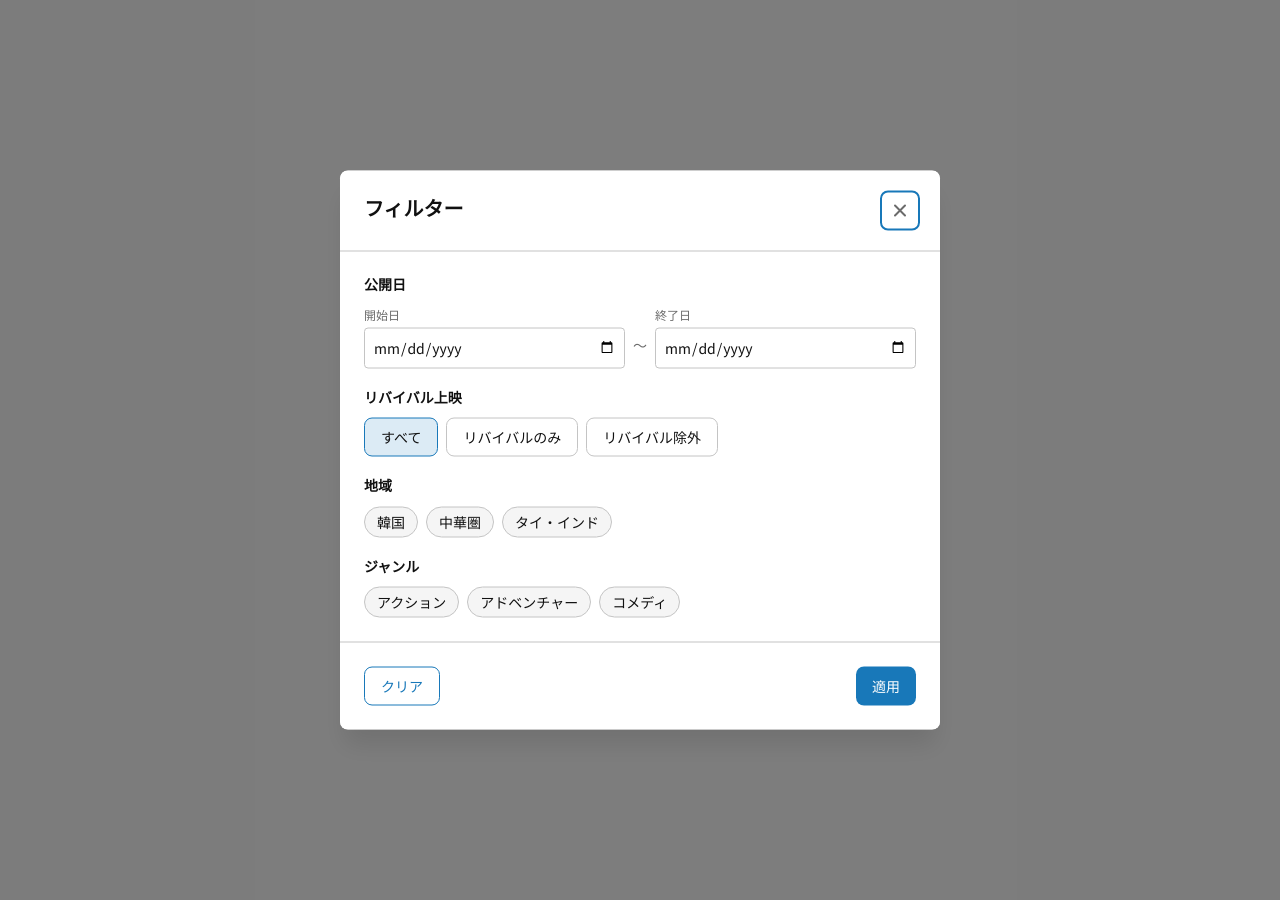
Test: FilterModal › リバイバルフィルター › ラジオボタンを切り替えられる
Click the radio button labelled "リバイバルのみ" at (512, 437), box x1=446 y1=418 x2=578 y2=456
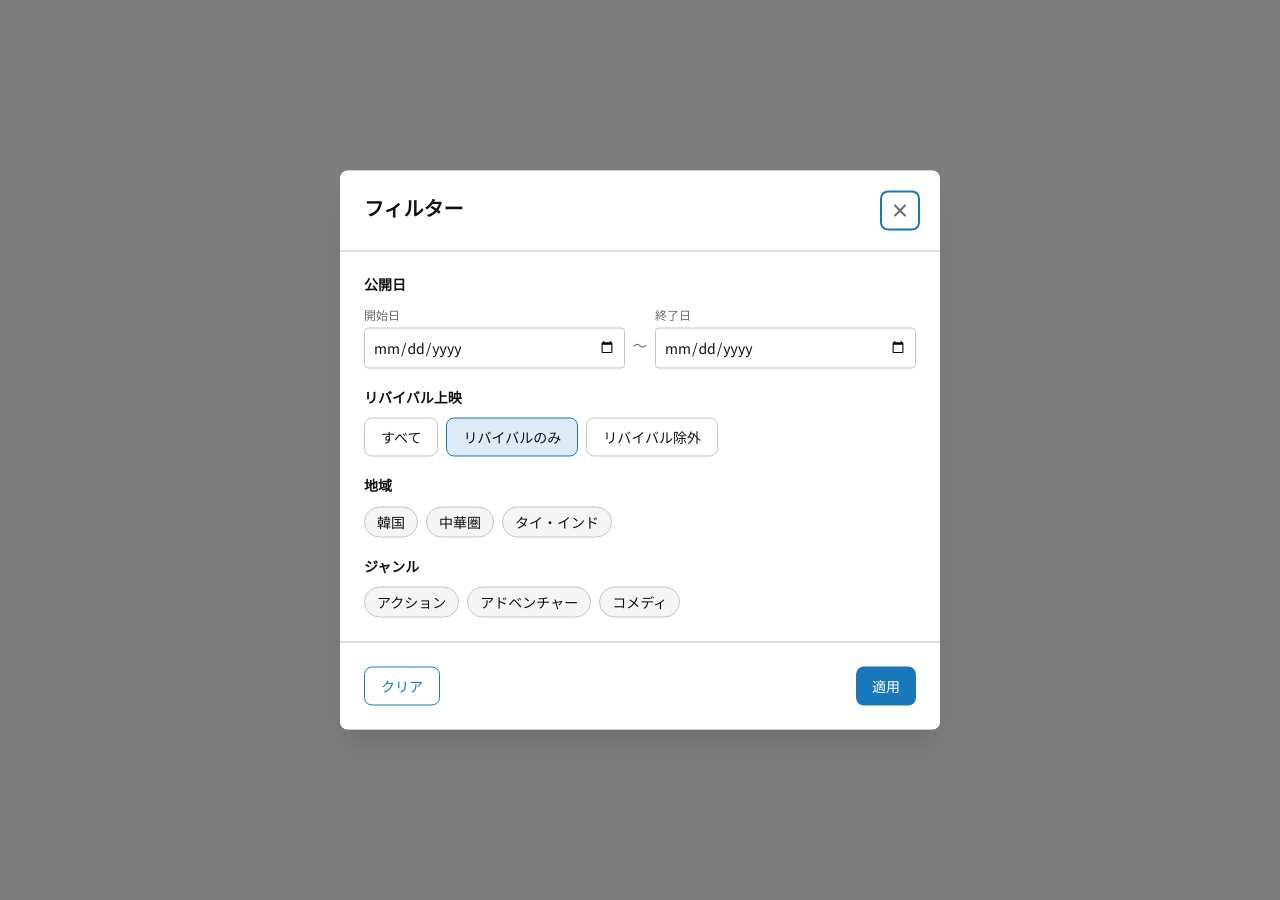
expect the radio button labelled "リバイバルのみ" is checked: met, box x1=446 y1=418 x2=578 y2=456
expect the radio button labelled "すべて" is not checked: met, box x1=364 y1=418 x2=438 y2=456
